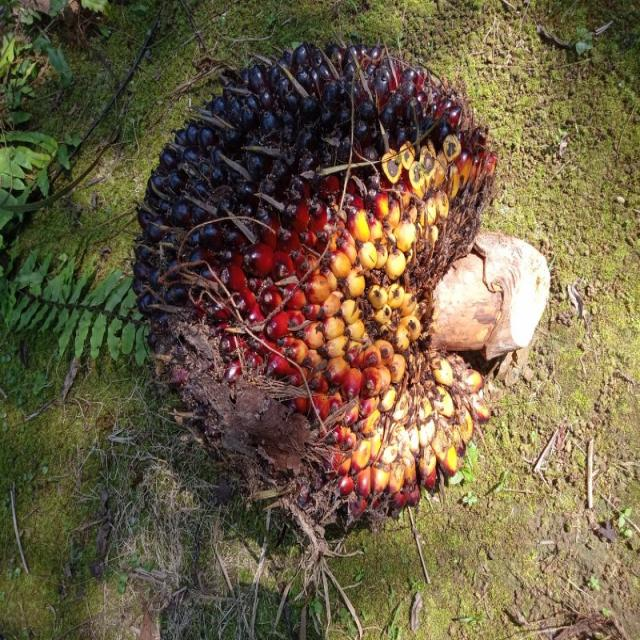fraksi 1: (120, 12, 574, 579)
